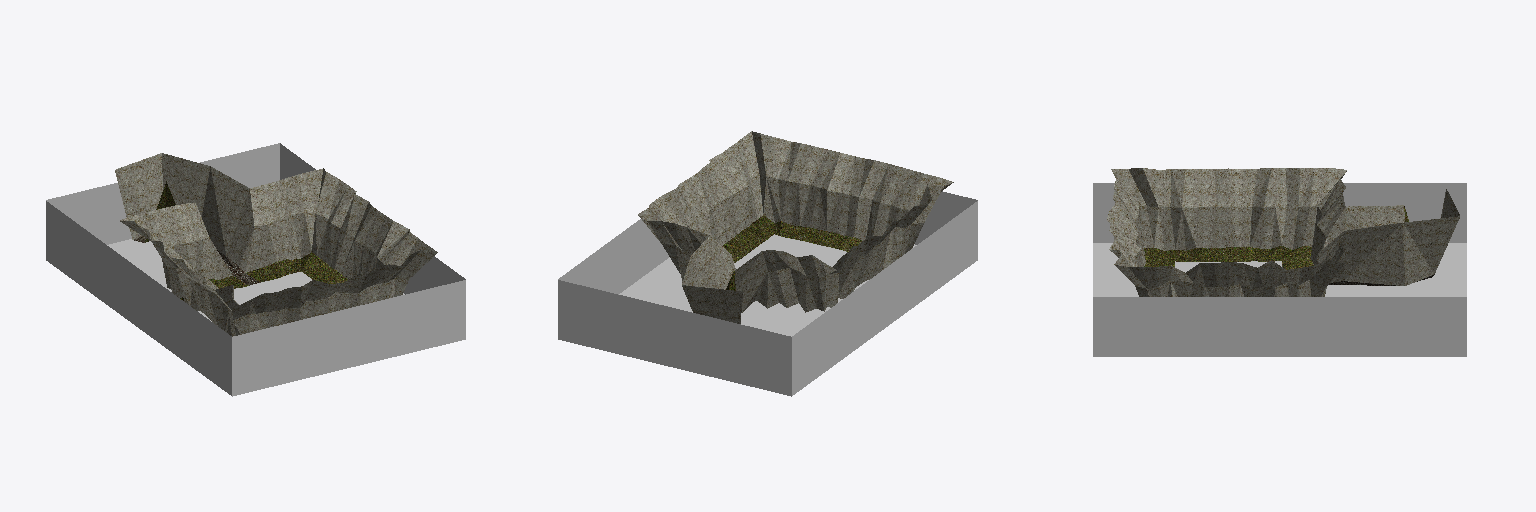
3 renders of one model, left to right at view 1: azimuth 30°, elevation 25°; view 2: azimuth 150°, elevation 25°; view 3: azimuth 270°, elevation 25°, orthographic.
Parts seen in each view (by area): view 1: skybox_Plane.005; view 2: skybox_Plane.005; view 3: skybox_Plane.005.
Boxes of the visible parts, <box> form: skybox_Plane.005: <box>46,143,465,396</box>; skybox_Plane.005: <box>558,131,977,396</box>; skybox_Plane.005: <box>1093,168,1466,356</box>.
Size of the model in its own units: 163 by 58.27 by 226.
4 materials, 3 textured.